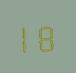eight: (38, 19, 56, 52)
one: (19, 20, 37, 53)
